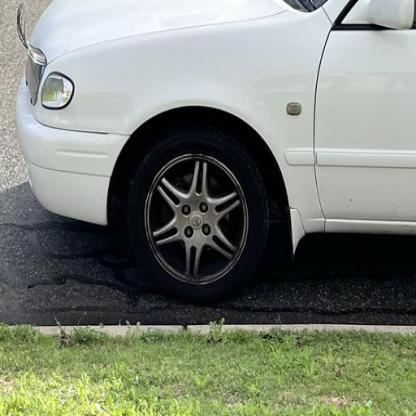Tire: (124, 123, 268, 303)
